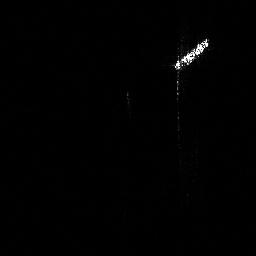ship: (171, 34, 212, 73)
